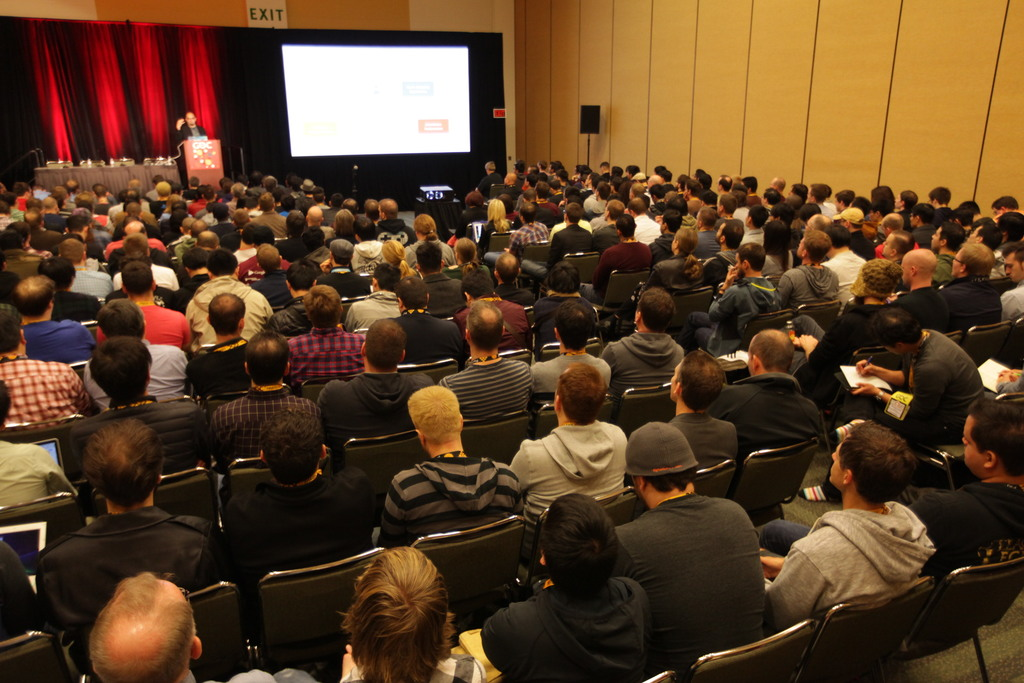Human-face: (961, 415, 984, 470), (831, 435, 850, 485), (1005, 251, 1023, 283), (188, 113, 194, 126)
